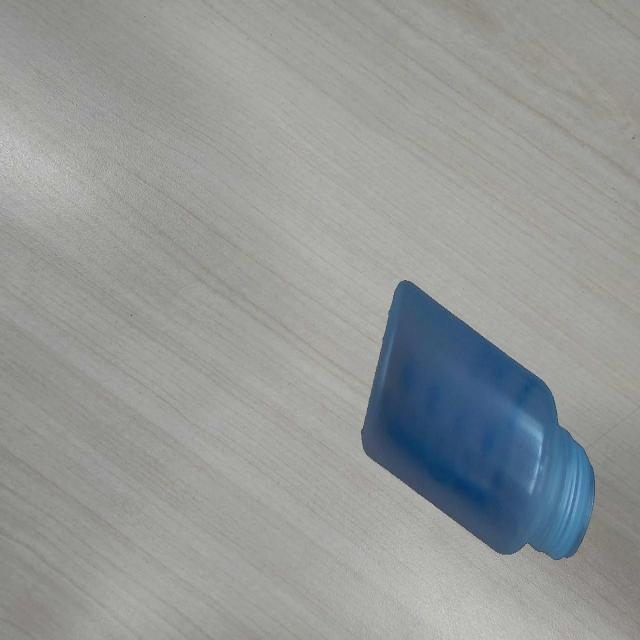bottle: (360, 276, 598, 566)
